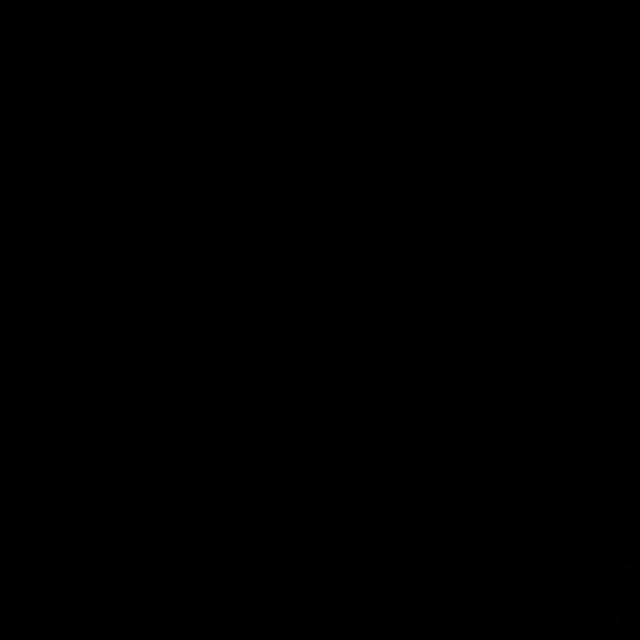rigid_plastic: (558, 528, 640, 640)
